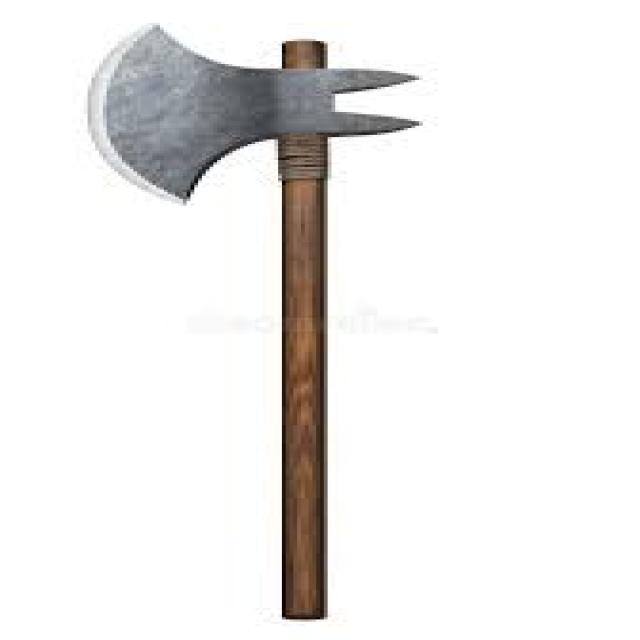Gun: (76, 11, 434, 640)
